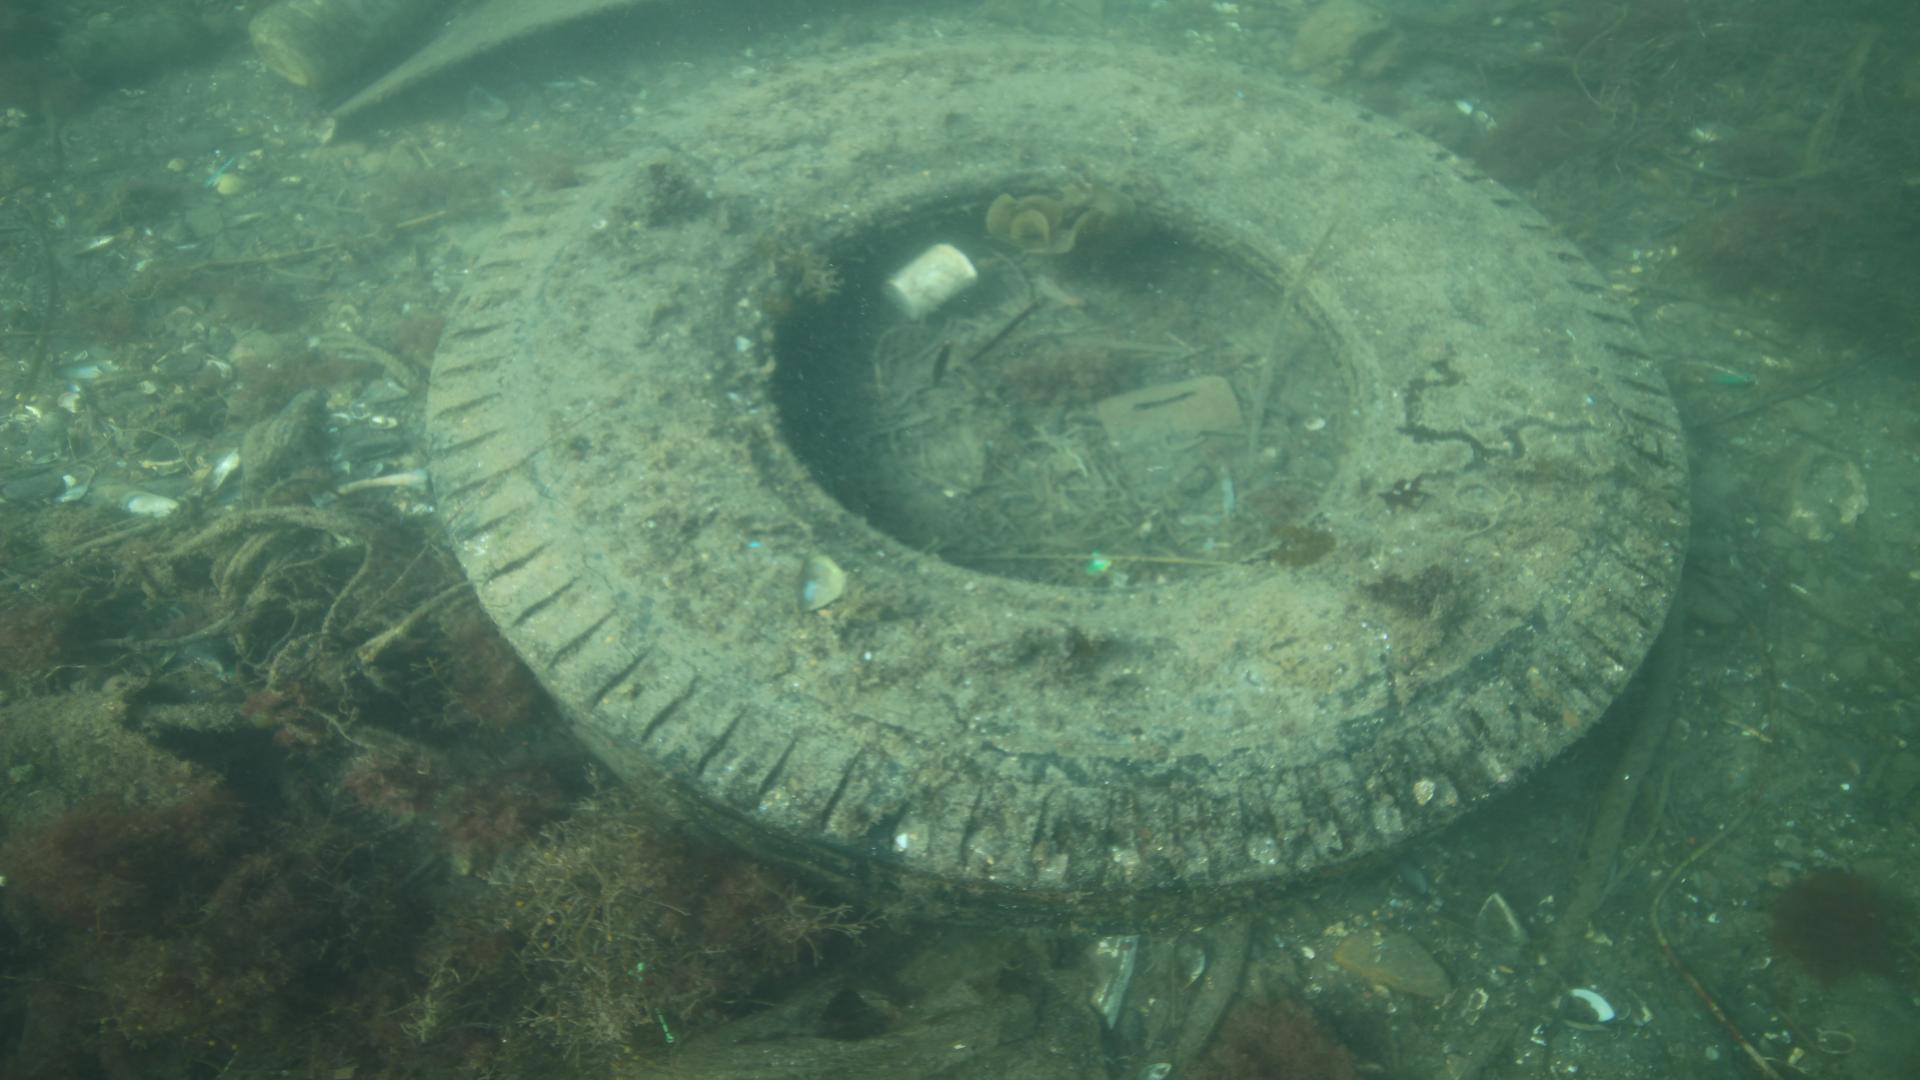tire: (419, 32, 1700, 949)
